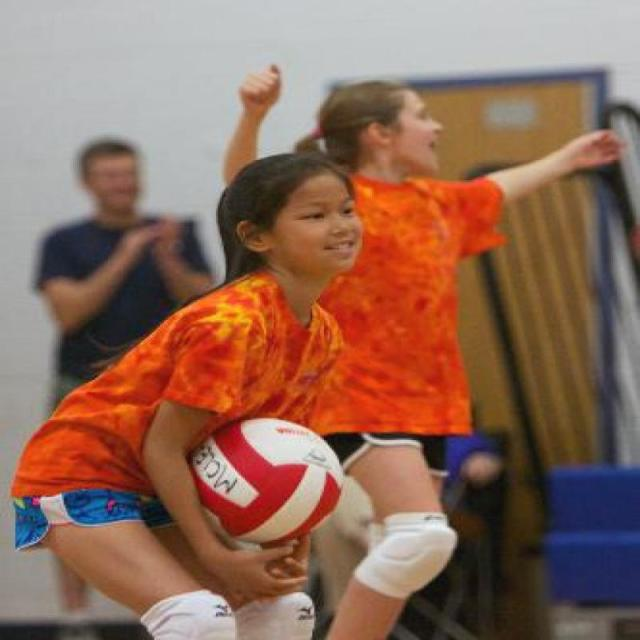volleyball: (187, 416, 347, 546)
